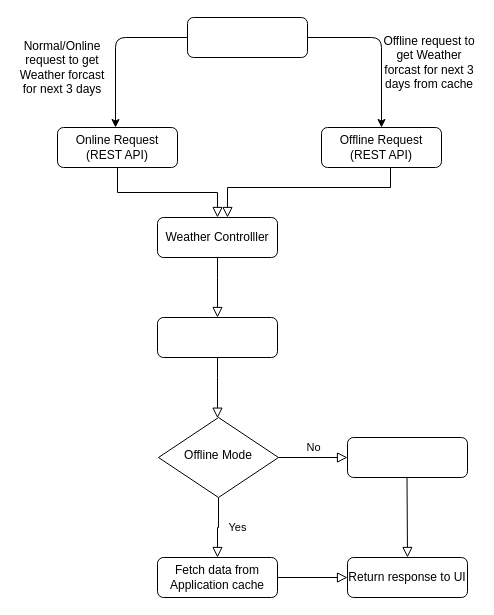
The diagram is 494 pixels wide and 615 high, and some of its shapes have lost their labels. Here are the shapes that lost their labels. From the top down, the centre of each, then its label:
At [247,37]: "User Interface".
At [217,337]: "Weather Service".
At [407,457]: "Fetch data from Open Weather API".
